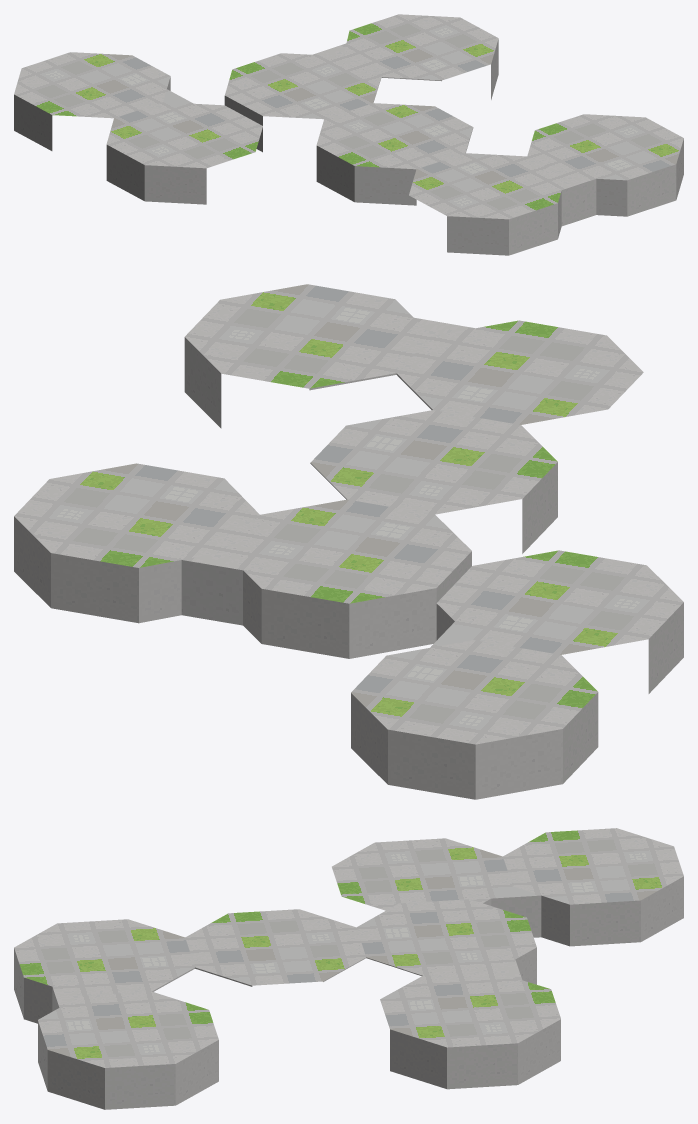
Rendered from kd_stage_1366d7_8_0.glb.
3 renders of one model, top to bottom at view 1: azimuth 30°, elevation 25°; view 2: azimuth 150°, elevation 25°; view 3: azimuth 270°, elevation 25°, orthographic. The views are drawn at different scales.
Visible parts, largest first — view 1: kd_stage_1366d7_8_0; view 2: kd_stage_1366d7_8_0; view 3: kd_stage_1366d7_8_0.
Part boxes in pixels (left/top/right/bottom): kd_stage_1366d7_8_0: left=14, top=14, right=683, bottom=255; kd_stage_1366d7_8_0: left=14, top=284, right=683, bottom=799; kd_stage_1366d7_8_0: left=14, top=828, right=683, bottom=1109.
Bounding box in the file's own units: 474 × 46.75 × 534.
1 material, 1 textured.
